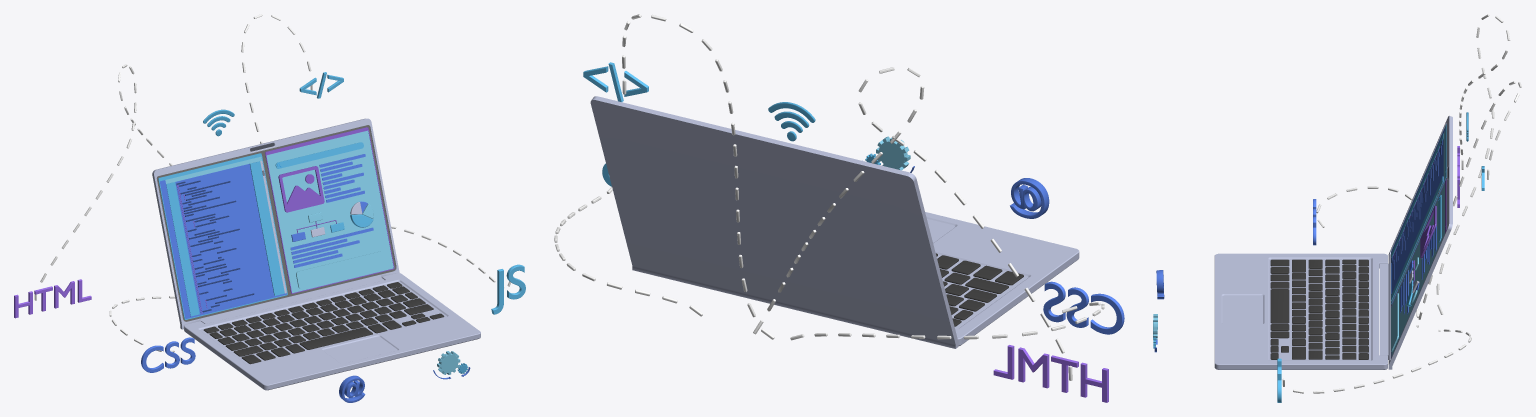
The model's file is web.glb.
3 renders of one model, left to right at view 1: azimuth 30°, elevation 25°; view 2: azimuth 150°, elevation 25°; view 3: azimuth 270°, elevation 25°, orthographic. The views are drawn at different scales.
Parts seen in each view (by area): view 1: laptop body, Window 2 detail 001, Window 1 detail 001, laptop key bord, Window 2 detail 002, laptop screen, Window 1 detail 002, Lines, Window 1 detail 004, HTML, CSS, JS (+4 smaller); view 2: laptop screen, laptop body, Lines, laptop key bord, HTML, CSS, @, </>, Gears, Wi-Fi; view 3: laptop body, laptop key bord, laptop screen, Lines, Window 2 detail 001, Window 2 detail 002, Window 1 detail 001, Window 1 detail 002, Window 1 detail 004.
Boxes of the visible parts, <box> form: laptop body: <box>184,273,480,390</box>; Window 2 detail 001: <box>158,153,287,319</box>; Window 1 detail 001: <box>265,127,394,293</box>; laptop key bord: <box>203,282,444,364</box>; Window 2 detail 002: <box>160,156,286,318</box>; laptop screen: <box>152,118,399,329</box>; Window 1 detail 002: <box>275,142,386,288</box>; Lines: <box>34,14,510,352</box>; Window 1 detail 004: <box>278,166,324,212</box>; HTML: <box>14,279,91,318</box>; CSS: <box>141,337,195,372</box>; JS: <box>491,264,525,314</box>; laptop screen: <box>590,96,958,348</box>; laptop body: <box>925,212,1079,346</box>; Lines: <box>554,14,1104,380</box>; laptop key bord: <box>936,253,1023,326</box>; HTML: <box>993,345,1108,402</box>; CSS: <box>1043,281,1124,334</box>; @: <box>1010,178,1049,218</box>; </>: <box>583,62,648,101</box>; Gears: <box>862,136,914,172</box>; Wi-Fi: <box>768,102,815,141</box>; laptop body: <box>1214,253,1387,369</box>; laptop key bord: <box>1270,259,1368,359</box>; laptop screen: <box>1379,116,1452,369</box>; Lines: <box>1282,14,1521,393</box>; Window 2 detail 001: <box>1391,124,1446,304</box>; Window 2 detail 002: <box>1391,128,1444,302</box>; Window 1 detail 001: <box>1391,179,1446,358</box>; Window 1 detail 002: <box>1391,194,1441,351</box>; Window 1 detail 004: <box>1420,205,1436,258</box>.
Bounding box in the file's own units: 9.55 × 5.29 × 6.85.
